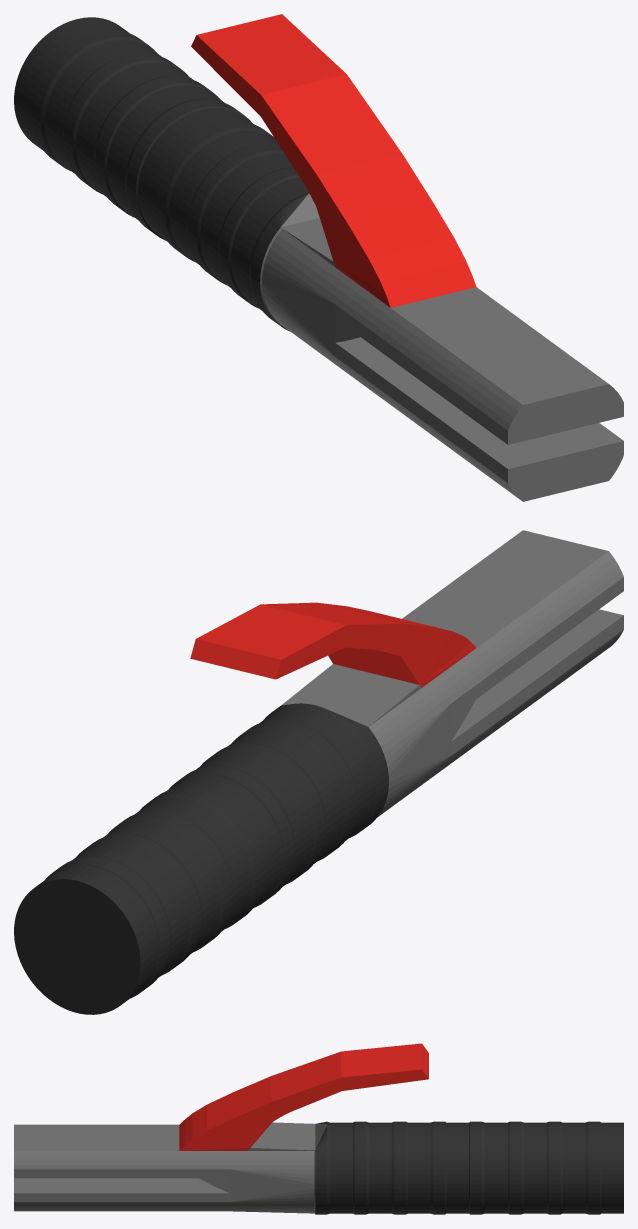
The model's file is Elekttrodenhalter.dae.
3 renders of one model, top to bottom at view 1: azimuth 30°, elevation 25°; view 2: azimuth 150°, elevation 25°; view 3: azimuth 270°, elevation 25°, orthographic. The views are drawn at different scales.
Visible parts, largest first — view 1: Kontakt, Griff, Hebel; view 2: Griff, Kontakt, Hebel; view 3: Griff, Kontakt, Hebel.
Boxes of the visible parts, box(x1,y1,x2,y2) form: Kontakt: box(260, 193, 623, 501); Griff: box(14, 17, 309, 323); Hebel: box(191, 14, 476, 307); Griff: box(14, 703, 388, 1014); Kontakt: box(281, 530, 623, 816); Hebel: box(190, 602, 475, 687); Griff: box(315, 1121, 623, 1214); Kontakt: box(14, 1122, 326, 1213); Hebel: box(179, 1043, 428, 1150).
Bounding box in the file's own units: 0.0408 × 0.2679 × 0.0745.
